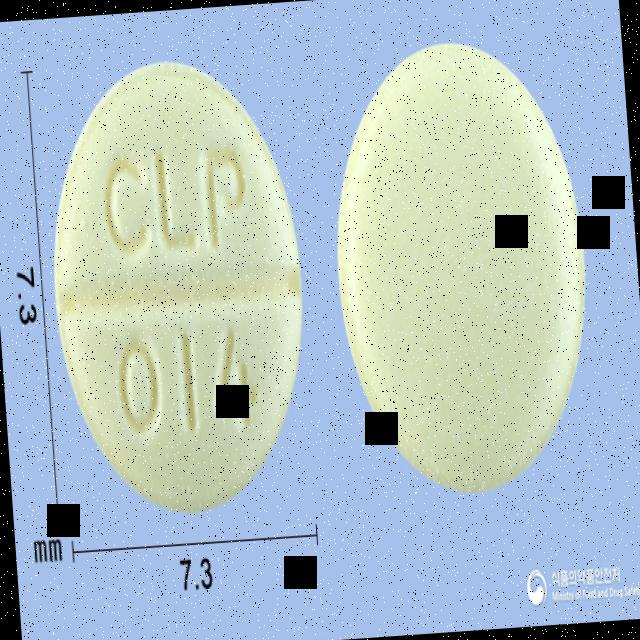Immuthera: (38, 45, 319, 518)
